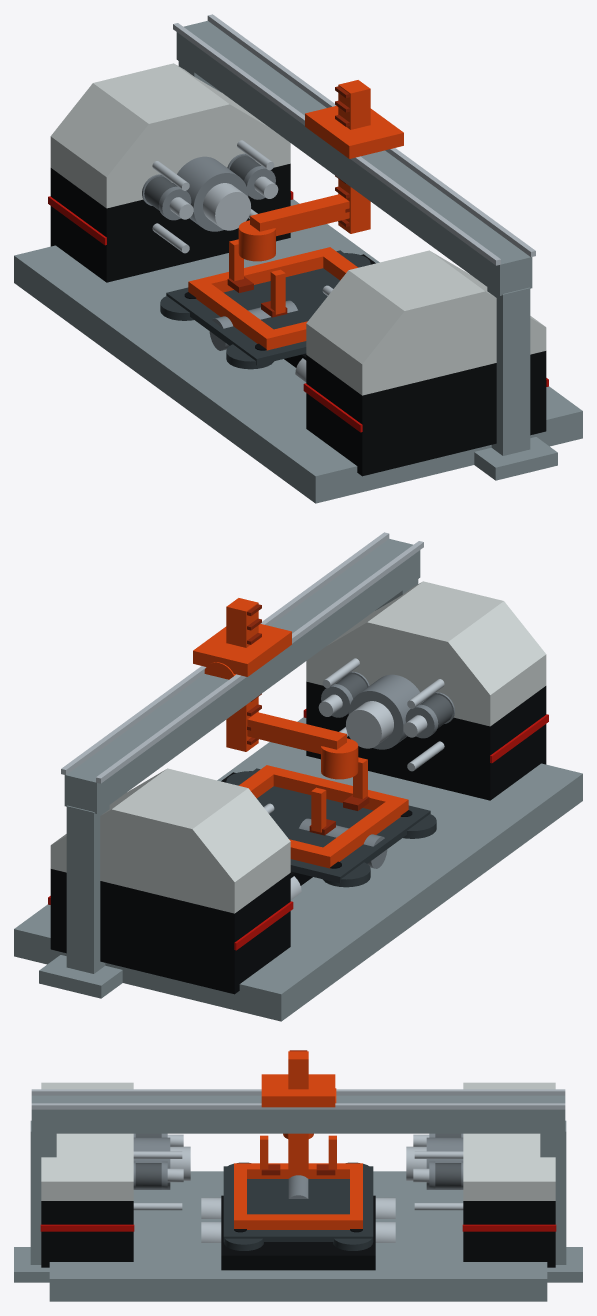
File: bearing_press_cell.dae
The picture shows the model from 3 angles, top to bottom: view 1: azimuth 30°, elevation 25°; view 2: azimuth 150°, elevation 25°; view 3: azimuth 270°, elevation 25°; orthographic projection. The views are drawn at different scales.
Visible parts, largest first — view 1: bearing_press_cell; view 2: bearing_press_cell; view 3: bearing_press_cell.
Part boxes in pixels (<box>): bearing_press_cell: <box>14,14,582,503</box>; bearing_press_cell: <box>14,532,582,1021</box>; bearing_press_cell: <box>14,1050,582,1301</box>.
Bounding box in the file's own units: 2.15 × 4.8 × 2.
